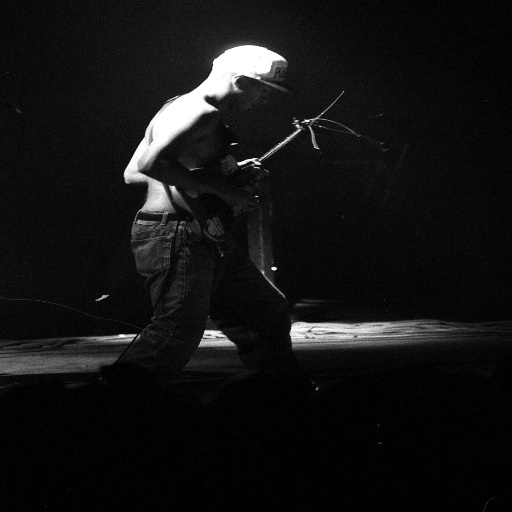hand: (235, 156, 271, 184), (221, 186, 260, 208)
